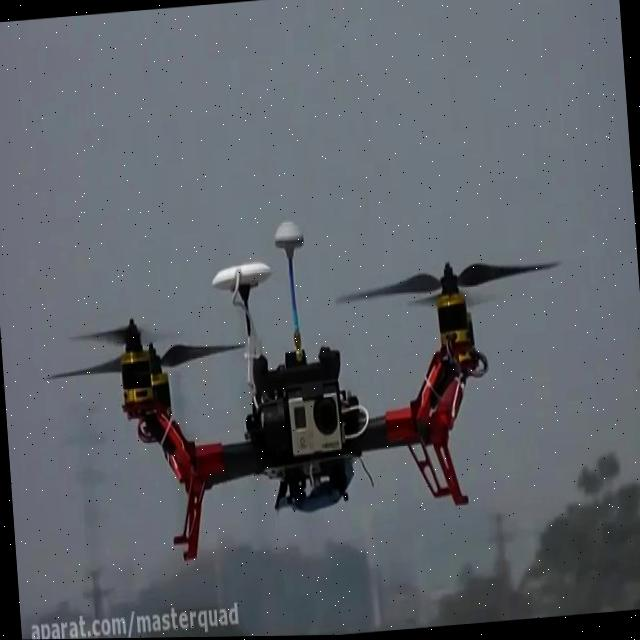drone: (31, 191, 587, 577)
